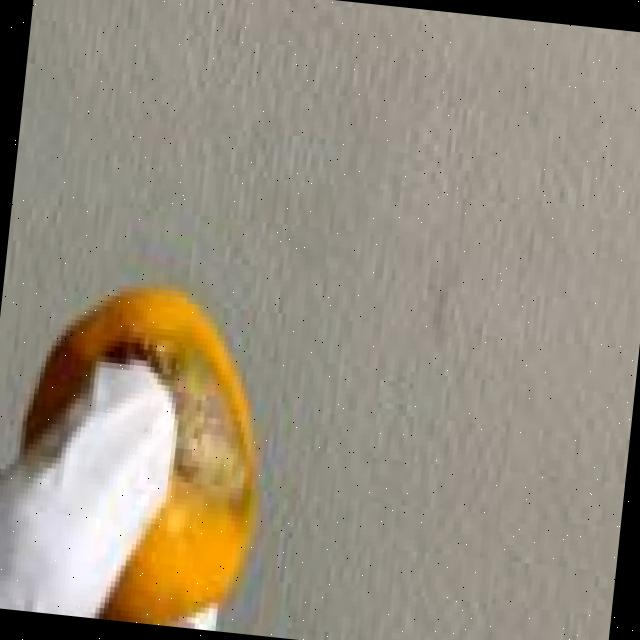Bad_Orange-0-1 day: (23, 285, 253, 630)
